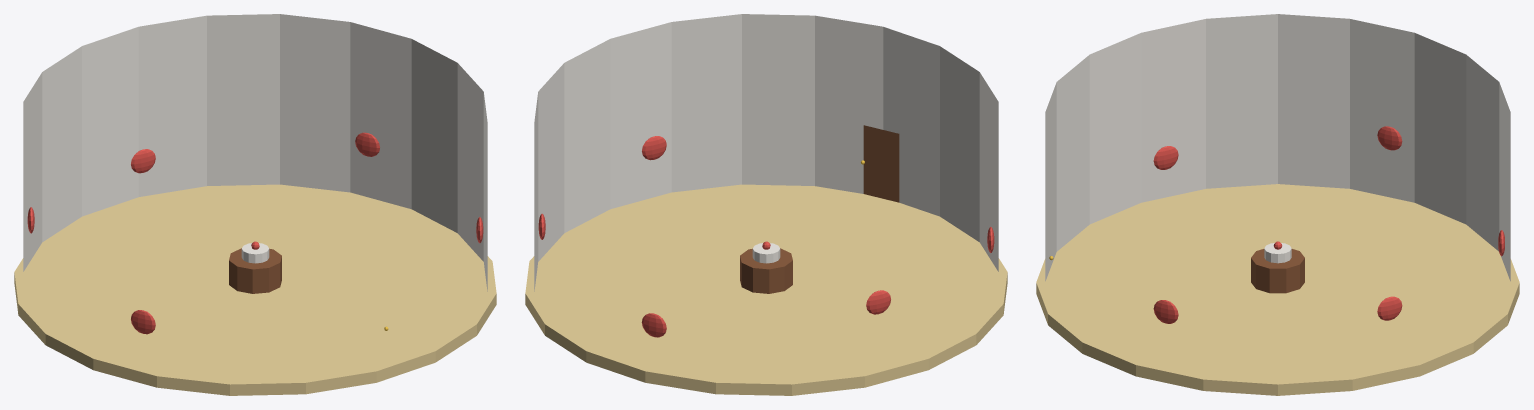
File: room_house_b.glb
The picture shows the model from 3 angles, left to right: view 1: azimuth 30°, elevation 25°; view 2: azimuth 150°, elevation 25°; view 3: azimuth 270°, elevation 25°; orthographic projection.
Visible parts, largest first — view 1: RoomB; view 2: RoomB; view 3: RoomB.
Boxes of the visible parts, x1,y1,x2,y2 form: RoomB: [14, 14, 496, 395]; RoomB: [525, 14, 1007, 395]; RoomB: [1036, 14, 1519, 395].
Bounding box in the file's own units: 13.4 × 5.55 × 13.4.
